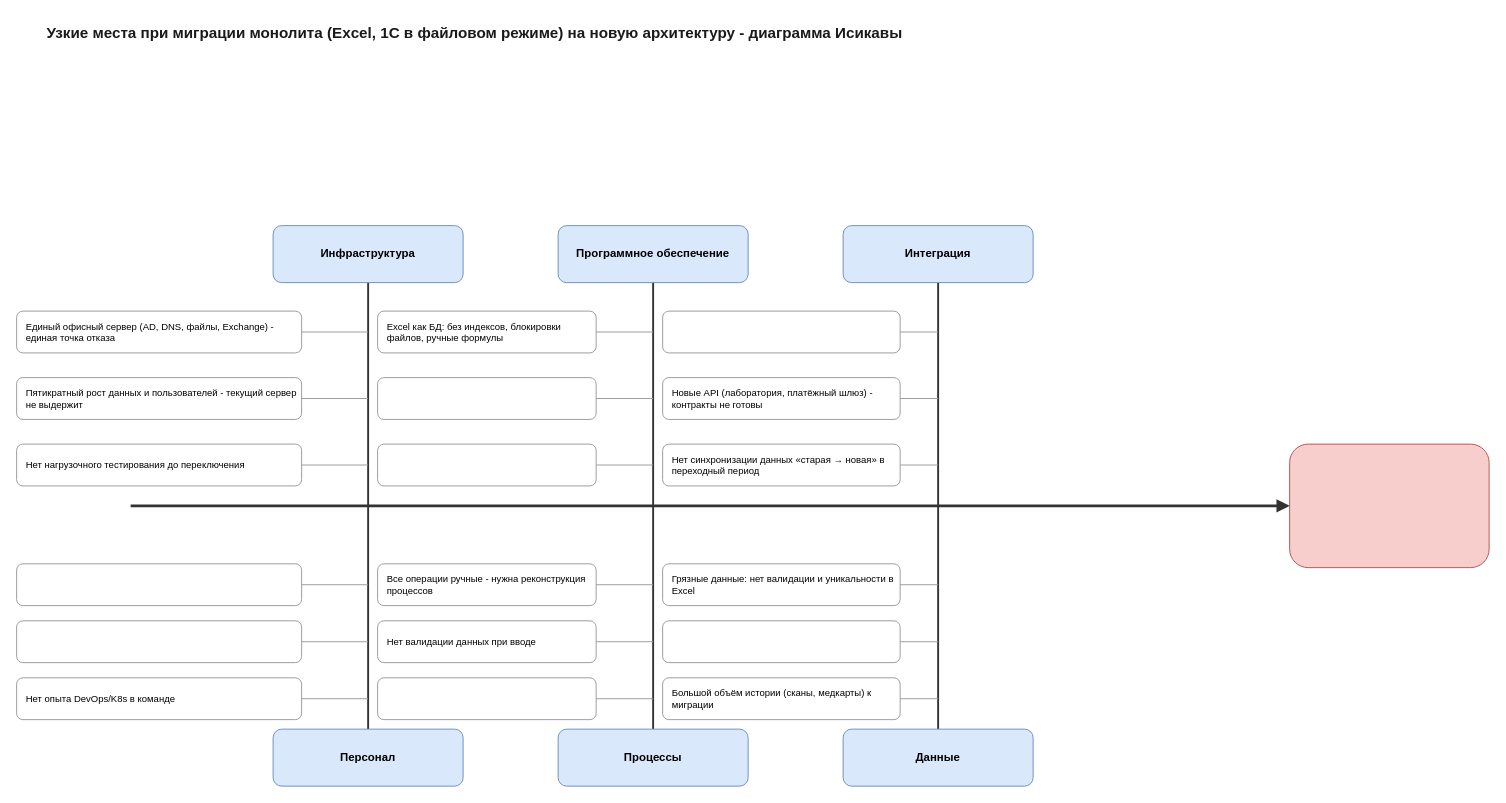
Some shapes in this 1506 by 803 pixel diagram are drawn without their labels. The shapes that lost their labels are listed below. From the top down, each one's box as (x1, y1, x2, y2) in pixels, then its label:
(662, 310, 900, 353): 1С ↔ 1С через OLE - хрупкий синхронный канал
(377, 377, 596, 419): Двойной учёт Excel + 1С - рассинхрон и двойная обработка
(377, 443, 596, 486): Отчёты Jupiter/Python по файлам - долгий расчёт
(1289, 443, 1489, 568): Узкие места миграции: деградация производительности и надёжности системы
(16, 563, 302, 606): IT-отдел из 3 человек - нехватка ресурса на параллельную работу
(16, 620, 302, 663): Сотрудники не привыкли к новым системам - ошибки и сопротивление
(662, 620, 900, 663): Дублирование данных между файлами и 1С
(377, 677, 596, 720): Нет процедур отката и runbook для смены
